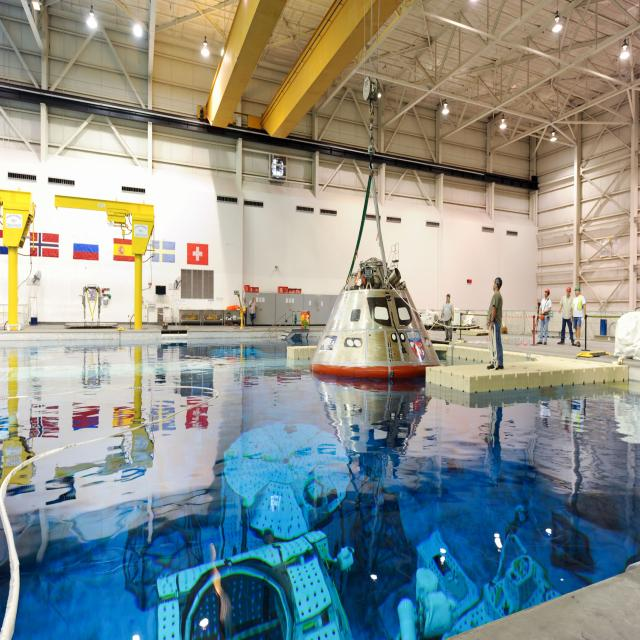Orion_capsule_mockup_(WEST)_located_on_far_end_of_pool: (309, 256, 441, 379)
